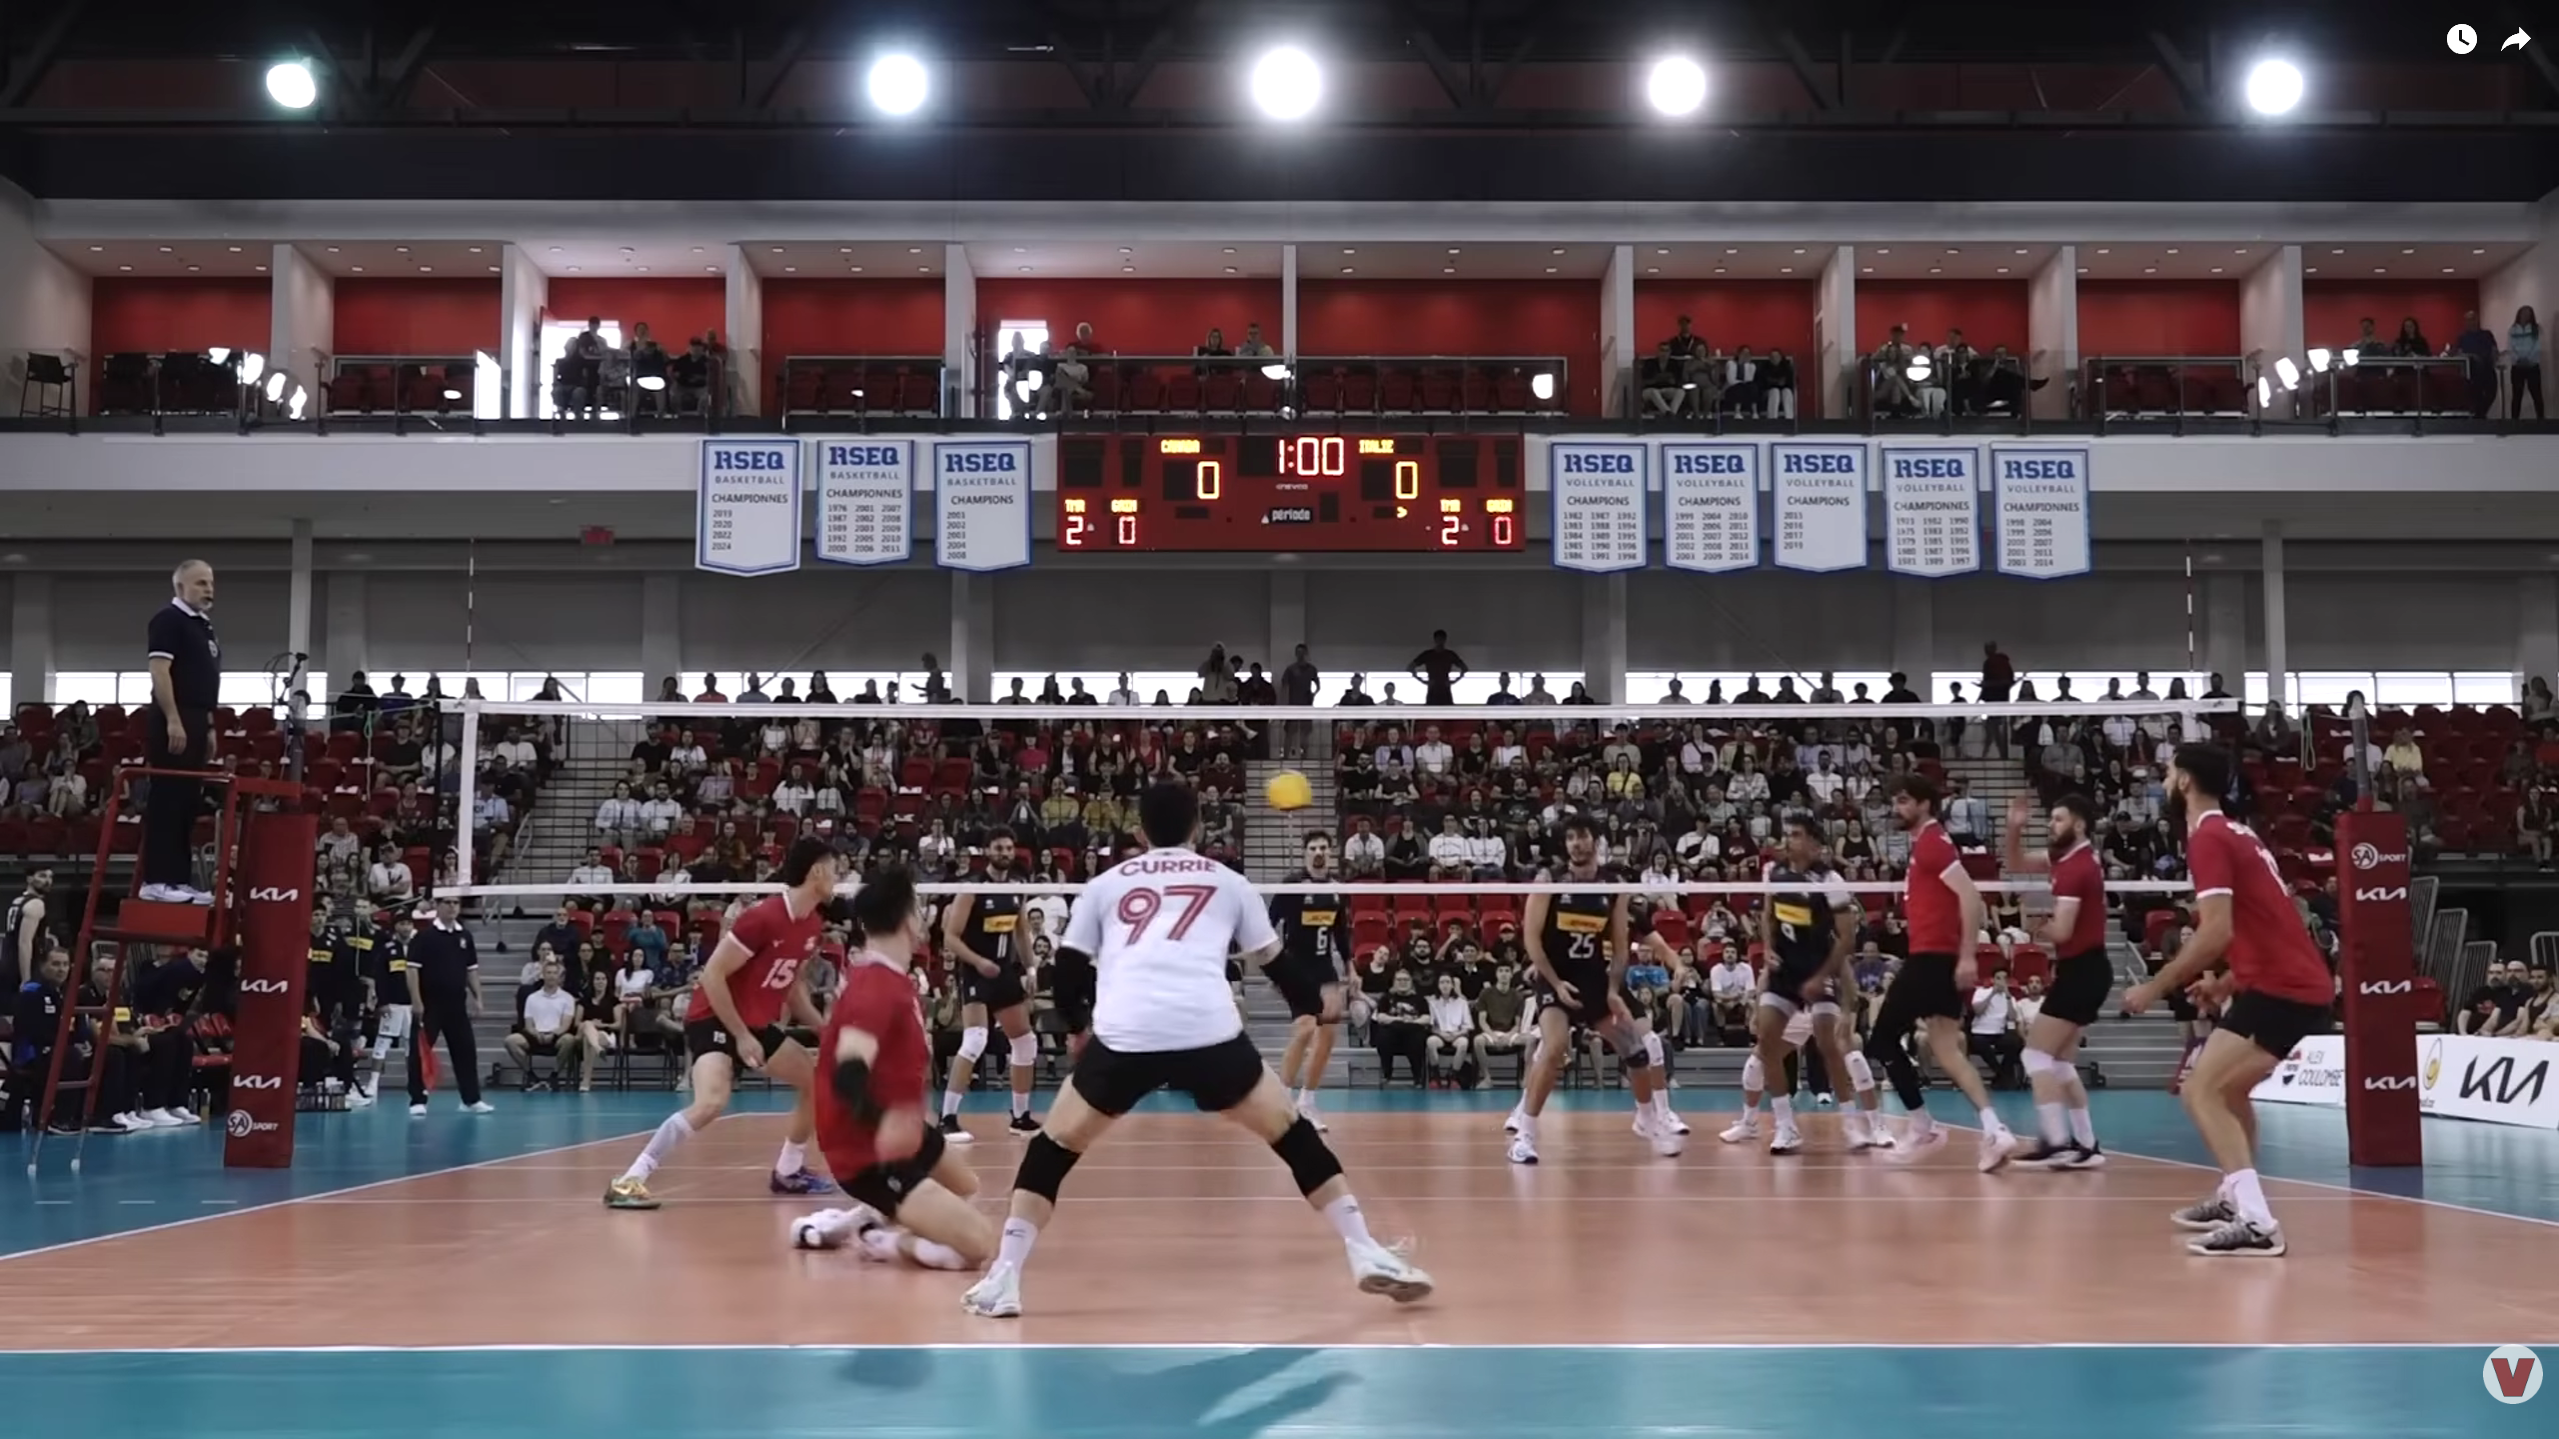Ball: (1265, 766, 1313, 814)
